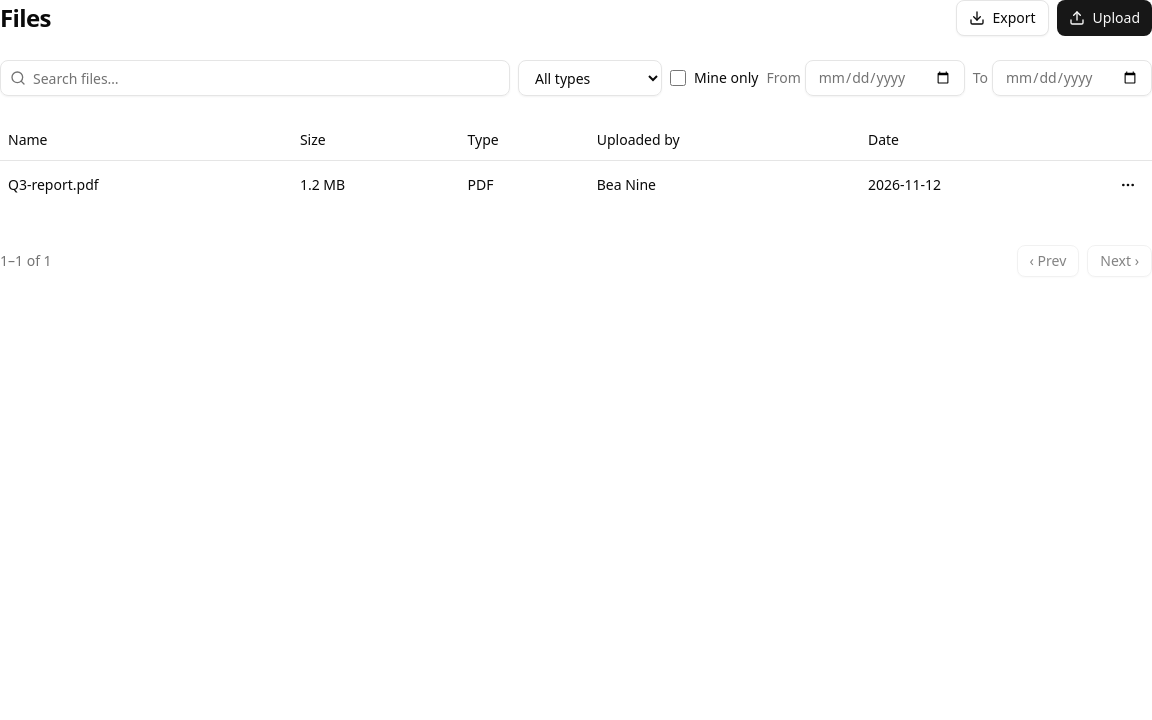
Test case: Files page › delete asks first, then calls the API
Later steps or results of the test are not shown.
Click the button named "actions for Q3-report.pdf" at (1128,184), box [1112,168,1144,200]
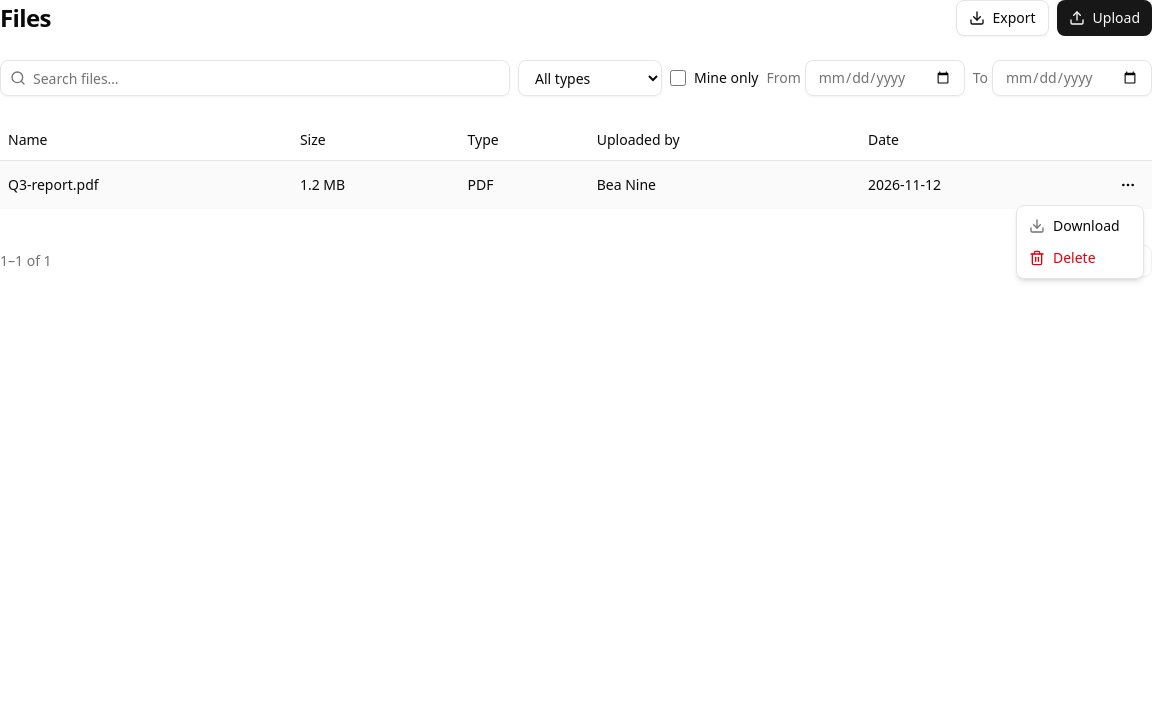
Click the menu item "Delete" at (1062,258), box [1029,248,1096,267]
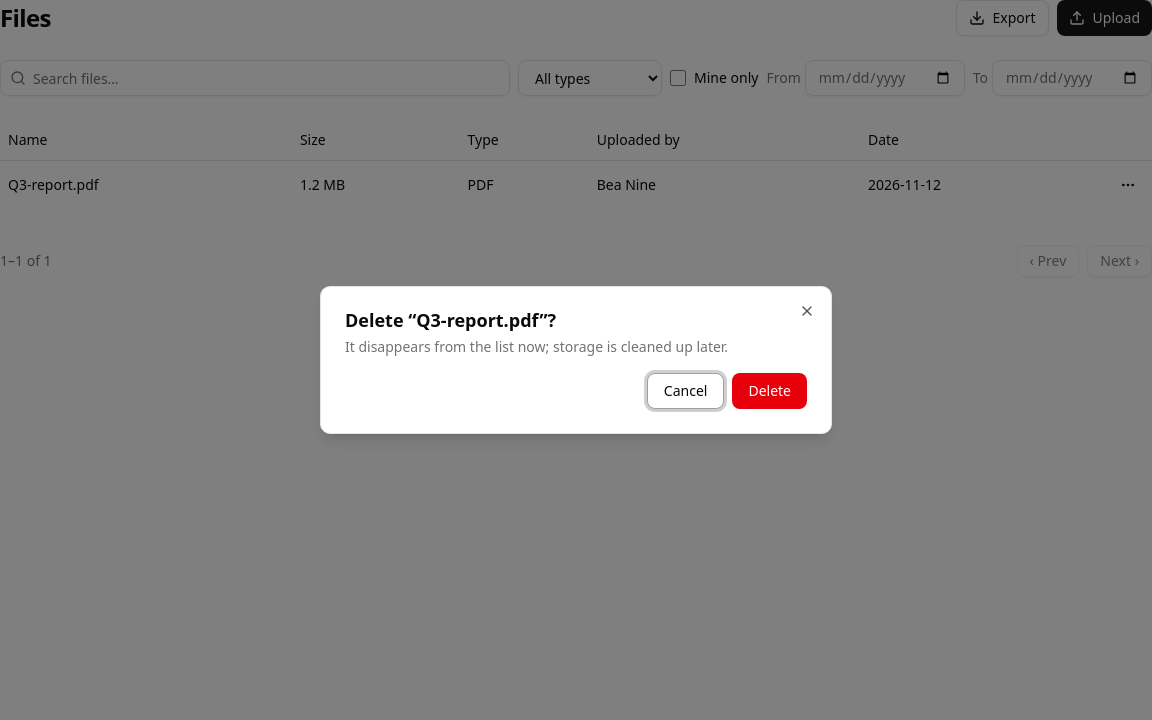
Expected: the dialog shows "Delete “Q3-report.pdf”?", [345,308,556,332]
